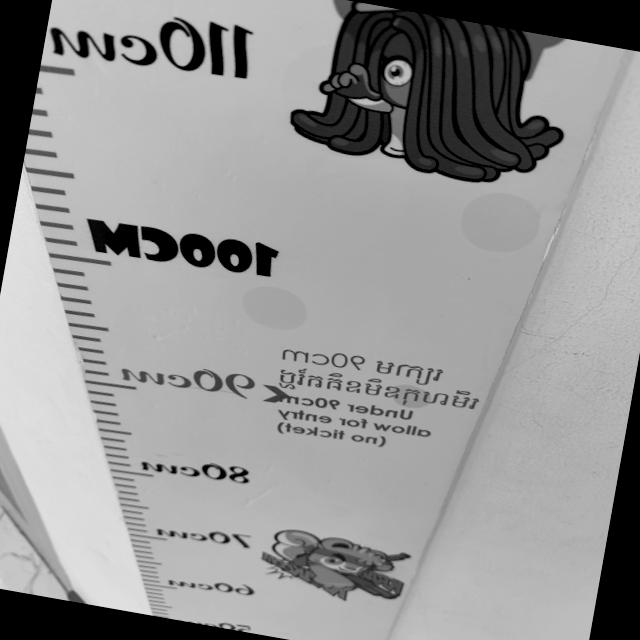185: (330, 340, 454, 385)
534: (177, 210, 289, 288)
552: (155, 0, 270, 91)
826: (207, 521, 259, 554)
843: (197, 452, 259, 496)
878: (186, 350, 256, 405)
893: (211, 575, 260, 601)
Yolov11kh: (279, 361, 486, 421)
